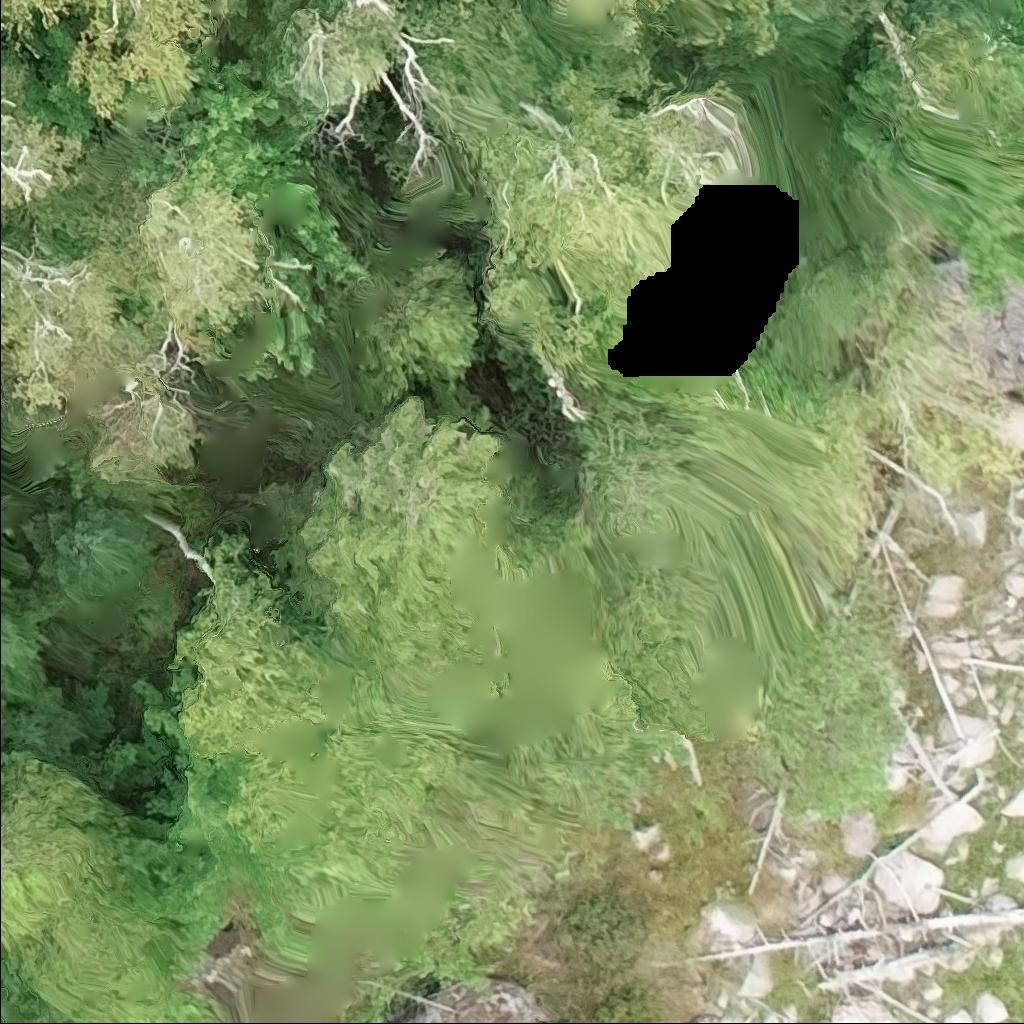crown: (104, 173, 275, 355), (0, 0, 213, 120), (0, 750, 116, 953), (0, 245, 123, 418), (19, 486, 154, 630), (0, 54, 87, 213), (0, 605, 52, 710), (612, 0, 676, 25), (0, 984, 25, 1023), (546, 0, 574, 6), (453, 0, 486, 5), (0, 0, 4, 28)
